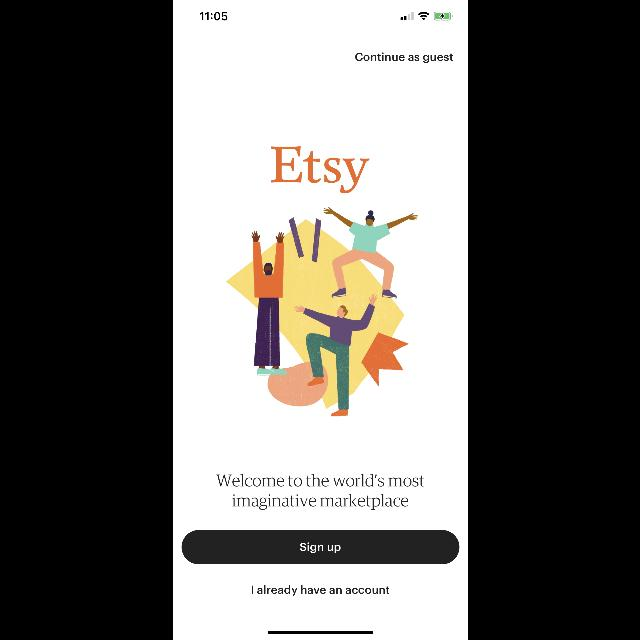image: (226, 208, 418, 416)
text: (216, 474, 424, 510), (271, 146, 369, 194), (251, 585, 389, 595), (355, 53, 453, 63)
textbutton: (181, 530, 459, 564)
uppertaskbar: (200, 12, 452, 21)
